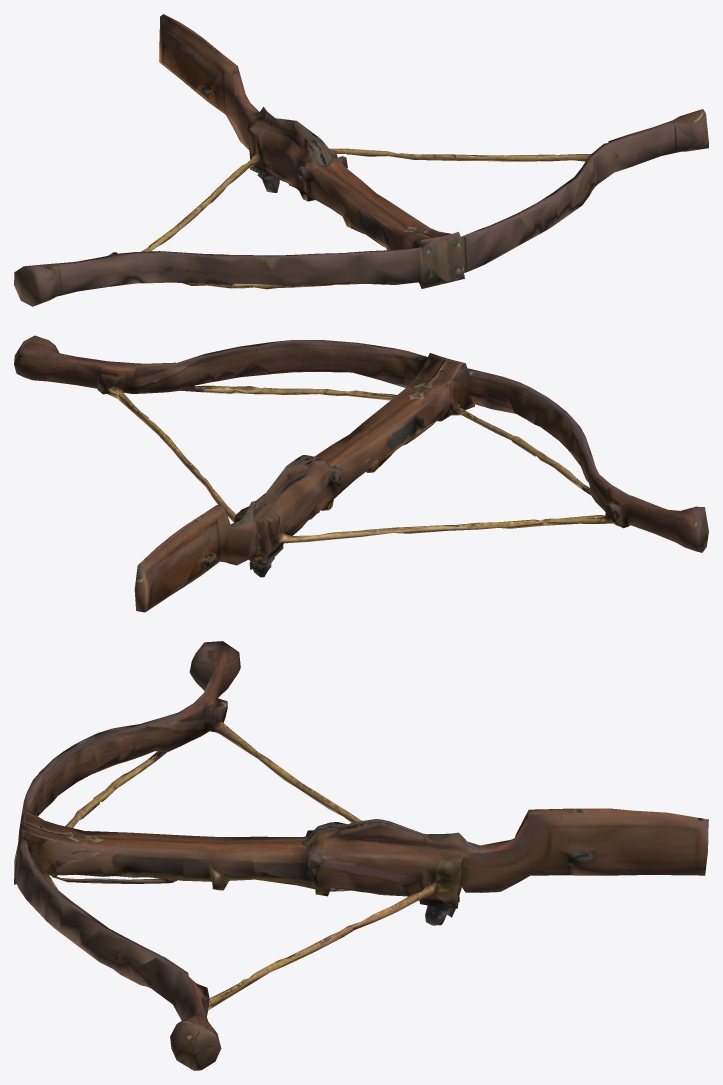
The model's file is 1129_crossbow.glb.
The picture shows the model from 3 angles, top to bottom: view 1: azimuth 30°, elevation 25°; view 2: azimuth 150°, elevation 25°; view 3: azimuth 270°, elevation 25°; orthographic projection. The views are drawn at different scales.
Visible parts, largest first — view 1: Model; view 2: Model; view 3: Model.
Boxes of the visible parts, x1,y1,x2,y2 form: Model: [14, 14, 708, 306]; Model: [14, 335, 708, 612]; Model: [14, 641, 708, 1070].
Bounding box in the file's own units: 1.33 × 0.1882 × 1.
1 material, 1 textured.
